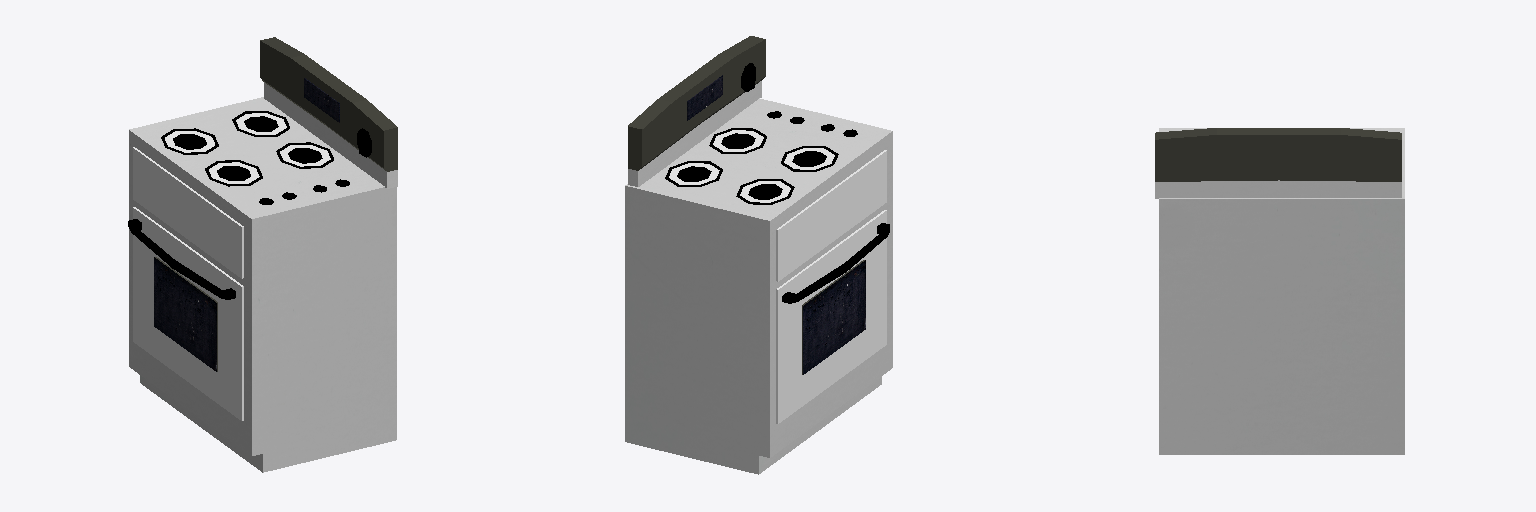
The picture shows the model from 3 angles: view 1: azimuth 30°, elevation 25°; view 2: azimuth 150°, elevation 25°; view 3: azimuth 270°, elevation 25°; orthographic projection.
Visible parts, largest first — view 1: polySurface41; view 2: polySurface41; view 3: polySurface41.
Boxes of the visible parts, x1,y1,x2,y2 form: polySurface41: [128, 37, 397, 472]; polySurface41: [625, 36, 892, 474]; polySurface41: [1155, 128, 1404, 454].
Bounding box in the file's own units: 0.7607 × 1.44 × 1.02.
2 materials, 2 textured.